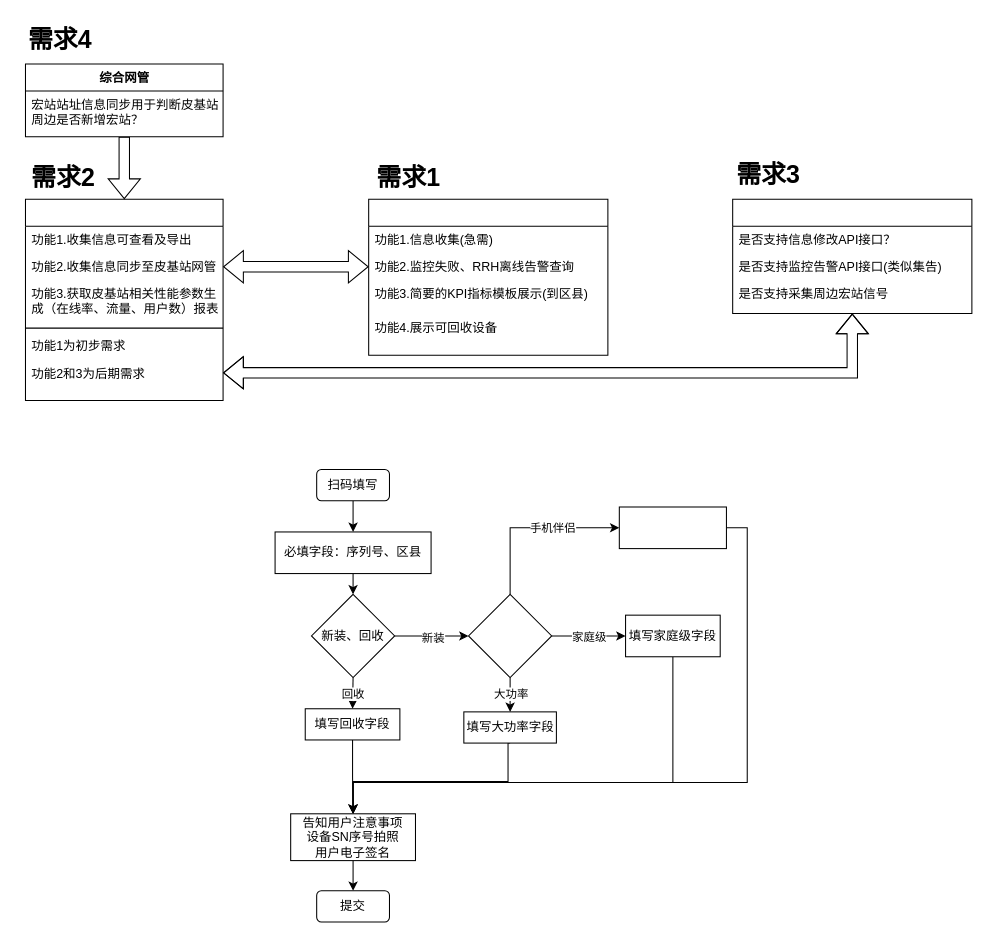
This 990x940 diagram has some shape labels left out. Here are the shapes that lost their labels. From the top down, the box of each, then its label:
(732, 198, 972, 314): 皮基站网管
(368, 198, 608, 355): 数智无线app工具-皮基站模块
(24, 198, 223, 400): 数智无线-皮基站模块管理后台
(618, 506, 726, 549): 填写手机伴侣字段
(467, 593, 552, 678): 大功率 家庭级 手机伴侣
